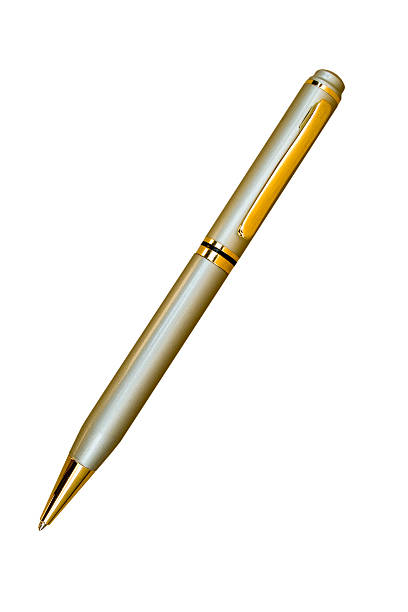pen: (31, 64, 358, 549)
